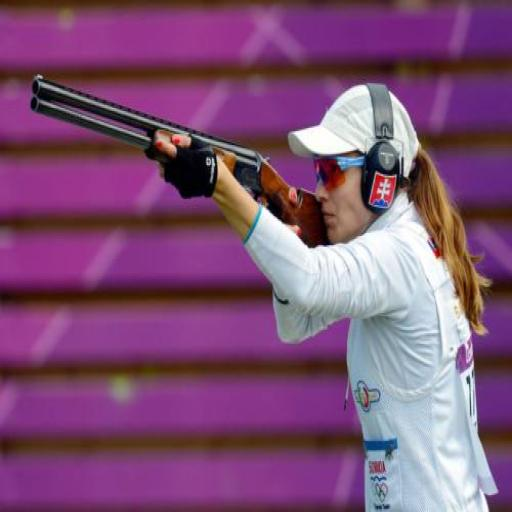shooting: (145, 80, 501, 511)
